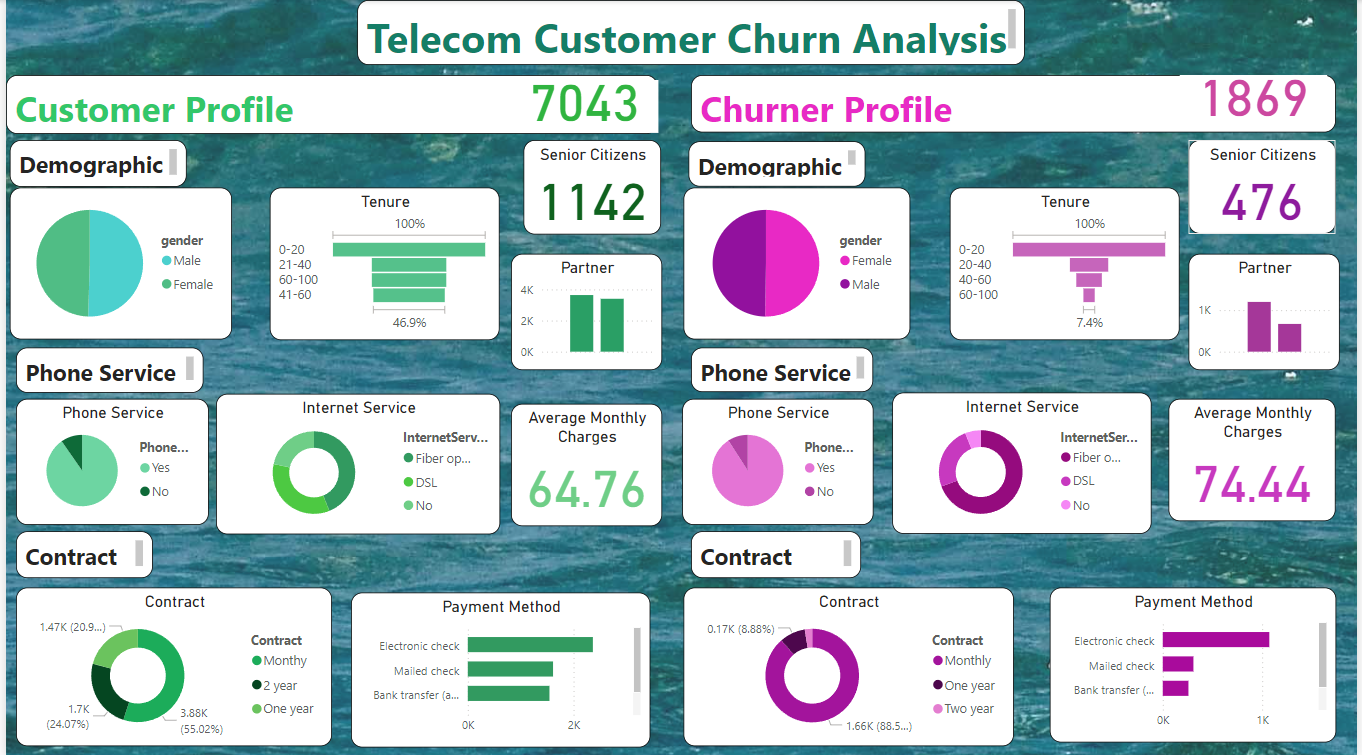

This screenshot's page, from the dashboard's own definition file:
{"tool":"powerbi","page":{"name":"Page 2","canvas":[1430,800],"ordinal":0},"visuals":[{"type":"textbox","box":[371.5,0,706.7,68.9],"z":0},{"type":"textbox","box":[0,79.2,689.8,62.4],"z":1000},{"type":"textbox","box":[724.9,79.2,682,61.1],"z":2000},{"type":"textbox","box":[3.9,148.1,187.1,49.4],"z":3000},{"type":"textbox","box":[10.6,367.7,198.4,47.6],"z":4000},{"type":"textbox","box":[10.9,562.2,144.8,49.5],"z":5000},{"type":"textbox","box":[722.6,148.8,186.9,47.6],"z":6000},{"type":"textbox","box":[725.1,368,193,47.1],"z":7000},{"type":"textbox","box":[725.1,562.2,179.8,49.5],"z":8000},{"type":"pieChart","fields":{"Category":["customers data.gender"],"Y":["CountNonNull(customers data.gender)"]},"box":[3.9,198.8,235.1,161.1],"z":9000},{"type":"pieChart","fields":{"Category":["Churners data.gender"],"Y":["CountNonNull(Churners data.gender)"]},"box":[717.1,198.8,240.3,161.1],"z":10000},{"type":"card","fields":{"Values":["Sum(customers data.SeniorCitizen)"]},"box":[548.1,148.5,145.6,99.9],"z":11000},{"type":"card","fields":{"Values":["Sum(Churners data.SeniorCitizen)"]},"box":[1251.3,148.1,156.1,99.2],"z":12000},{"type":"card","fields":{"Values":["CountNonNull(customers data.Contract)"]},"box":[533.9,84.4,155.9,55.9],"z":13000},{"type":"card","fields":{"Values":["CountNonNull(Churners data.Contract)"]},"box":[1241.9,79.2,155.9,55.9],"z":14000},{"type":"funnel","title":"Tenure","fields":{"Category":["customers data.Tenure_bins"],"Y":["CountNonNull(customers data.Tenure_bins)"]},"box":[279.1,198.4,243.4,161.4],"z":15000},{"type":"funnel","title":"Tenure","fields":{"Category":["Churners data.tenure_bins"],"Y":["CountNonNull(Churners data.tenure_bins)"]},"box":[998.7,198.4,243.4,161.4],"z":16000},{"type":"clusteredColumnChart","title":" Partner","fields":{"Category":["customers data.Partner"],"Y":["CountNonNull(customers data.Partner)"]},"box":[534.4,268.5,160.1,123],"z":17000},{"type":"clusteredColumnChart","title":" Partner","fields":{"Category":["Churners data.Partner"],"Y":["CountNonNull(Churners data.Partner)"]},"box":[1251.3,268.5,160.1,123],"z":18000},{"type":"pieChart","title":" Phone Service","fields":{"Category":["customers data.PhoneService"],"Y":["CountNonNull(customers data.PhoneService)"]},"box":[10.6,422,203.7,133.6],"z":19000},{"type":"pieChart","title":" Phone Service","fields":{"Category":["Churners data.PhoneService"],"Y":["CountNonNull(Churners data.PhoneService)"]},"box":[715.6,422,202.4,133.6],"z":20000},{"type":"donutChart","title":" Contract","fields":{"Y":["CountNonNull(customers data.Contract)"],"Category":["customers data.Contract"]},"box":[10.6,621.7,334.7,168],"z":21000},{"type":"donutChart","title":" Contract","fields":{"Category":["Churners data.Contract"],"Y":["CountNonNull(Churners data.Contract)"]},"box":[716.9,621.7,349.2,168],"z":22000},{"type":"clusteredBarChart","title":"Payment Method","fields":{"Y":["CountNonNull(customers data.PaymentMethod)"],"Category":["customers data.PaymentMethod"]},"box":[365.4,626.6,316.9,164.2],"z":23000},{"type":"clusteredBarChart","title":"Payment Method","fields":{"Category":["Churners data.PaymentMethod"],"Y":["CountNonNull(Churners data.PaymentMethod)"]},"box":[1104.5,621.7,302.9,164],"z":24000},{"type":"donutChart","title":"Internet Service","fields":{"Category":["customers data.InternetService"],"Y":["CountNonNull(customers data.InternetService)"]},"box":[222.7,416.8,301.2,148.5],"z":25000},{"type":"donutChart","title":"Internet Service","fields":{"Category":["Churners data.InternetService"],"Y":["CountNonNull(Churners data.InternetService)"]},"box":[937.8,415.4,274.1,149.9],"z":26000},{"type":"card","title":"Average Monthly Charges","fields":{"Values":["Avg(customers data.MonthlyCharges)"]},"box":[533.9,426.8,159.9,129.9],"z":26001},{"type":"card","title":"Average Monthly Charges","fields":{"Values":["Avg(Churners data.MonthlyCharges)"]},"box":[1230.4,422.5,177,129.9],"z":26002}]}

Visuals, with their boxes in screenshot pixels (x1, y1, x2, y2), scaled from the page's 1430x800 canvas onto the 1362x755 screenshot:
textbox: [x1=354, y1=0, x2=1027, y2=65]
textbox: [x1=0, y1=75, x2=657, y2=134]
textbox: [x1=690, y1=75, x2=1340, y2=132]
textbox: [x1=4, y1=140, x2=182, y2=186]
textbox: [x1=10, y1=347, x2=199, y2=392]
textbox: [x1=10, y1=531, x2=148, y2=577]
textbox: [x1=688, y1=140, x2=866, y2=185]
textbox: [x1=691, y1=347, x2=874, y2=392]
textbox: [x1=691, y1=531, x2=862, y2=577]
pieChart - customers data.gender x CountNonNull(customers data.gender): [x1=4, y1=188, x2=228, y2=340]
pieChart - Churners data.gender x CountNonNull(Churners data.gender): [x1=683, y1=188, x2=912, y2=340]
card - Sum(customers data.SeniorCitizen): [x1=522, y1=140, x2=661, y2=234]
card - Sum(Churners data.SeniorCitizen): [x1=1192, y1=140, x2=1340, y2=233]
card - CountNonNull(customers data.Contract): [x1=509, y1=80, x2=657, y2=132]
card - CountNonNull(Churners data.Contract): [x1=1183, y1=75, x2=1331, y2=128]
"Tenure" funnel: [x1=266, y1=187, x2=498, y2=340]
"Tenure" funnel: [x1=951, y1=187, x2=1183, y2=340]
" Partner" clusteredColumnChart: [x1=509, y1=253, x2=661, y2=369]
" Partner" clusteredColumnChart: [x1=1192, y1=253, x2=1344, y2=369]
" Phone Service" pieChart: [x1=10, y1=398, x2=204, y2=524]
" Phone Service" pieChart: [x1=682, y1=398, x2=874, y2=524]
" Contract" donutChart: [x1=10, y1=587, x2=329, y2=745]
" Contract" donutChart: [x1=683, y1=587, x2=1015, y2=745]
"Payment Method" clusteredBarChart: [x1=348, y1=591, x2=650, y2=746]
"Payment Method" clusteredBarChart: [x1=1052, y1=587, x2=1340, y2=742]
"Internet Service" donutChart: [x1=212, y1=393, x2=499, y2=534]
"Internet Service" donutChart: [x1=893, y1=392, x2=1154, y2=534]
"Average Monthly Charges" card: [x1=509, y1=403, x2=661, y2=525]
"Average Monthly Charges" card: [x1=1172, y1=399, x2=1340, y2=521]
